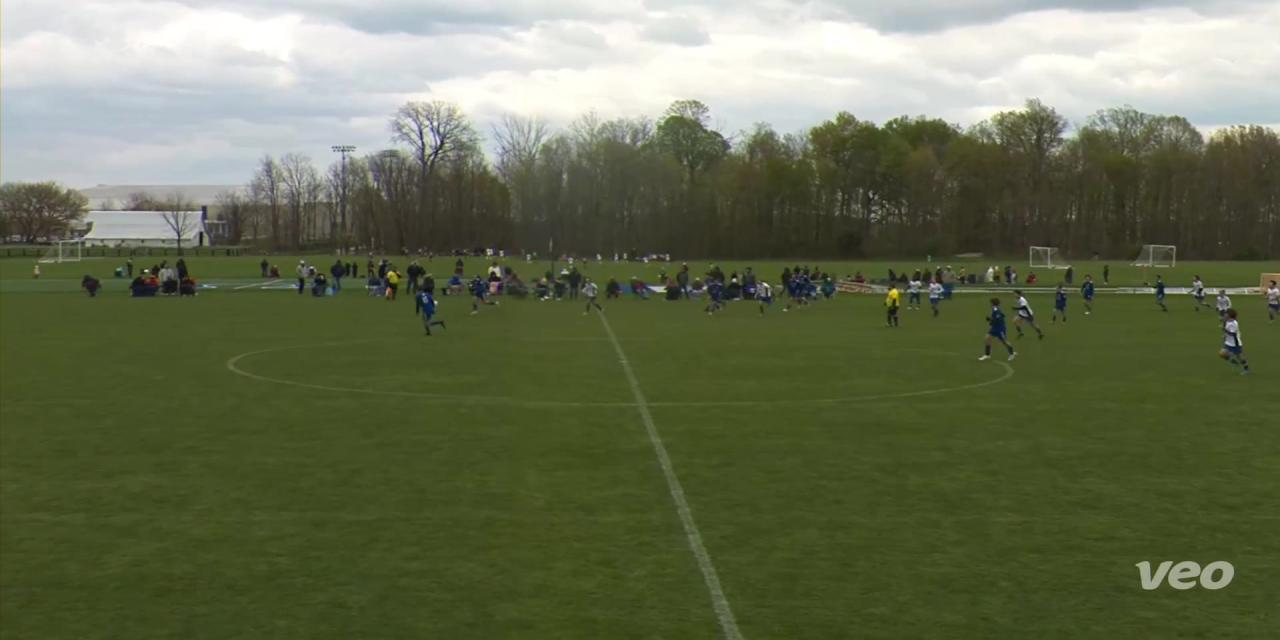sports ball: (429, 295, 442, 308)
